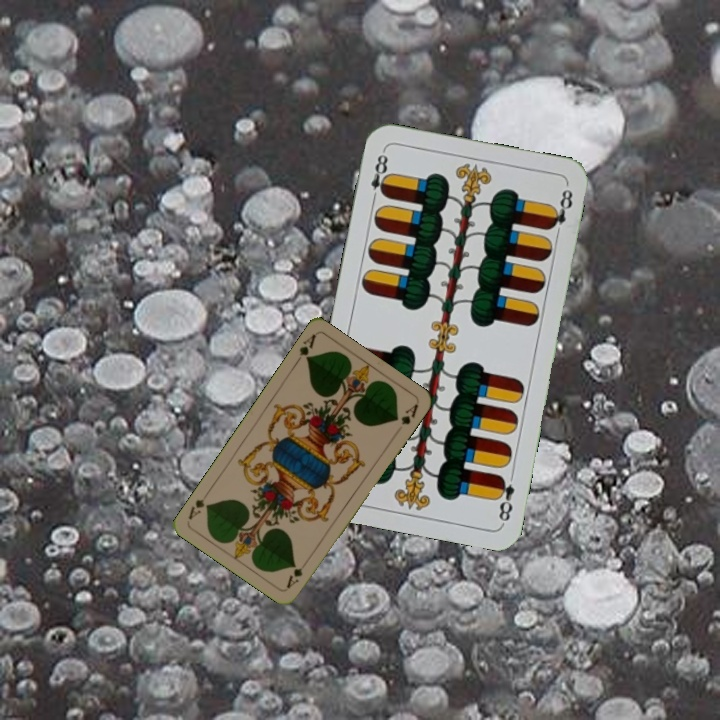E8: (367, 147, 392, 205), (492, 472, 517, 526)
GA: (282, 555, 311, 591), (291, 330, 318, 367)
